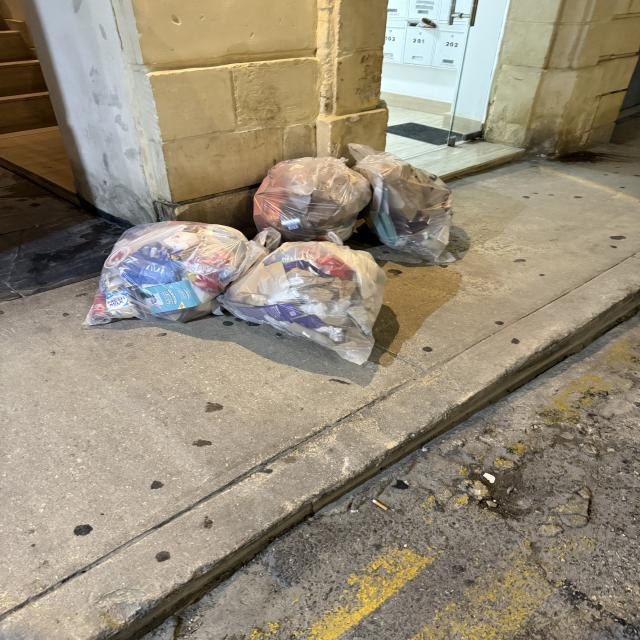Recyclable Material -Grey Bags-: (84, 144, 457, 363)
